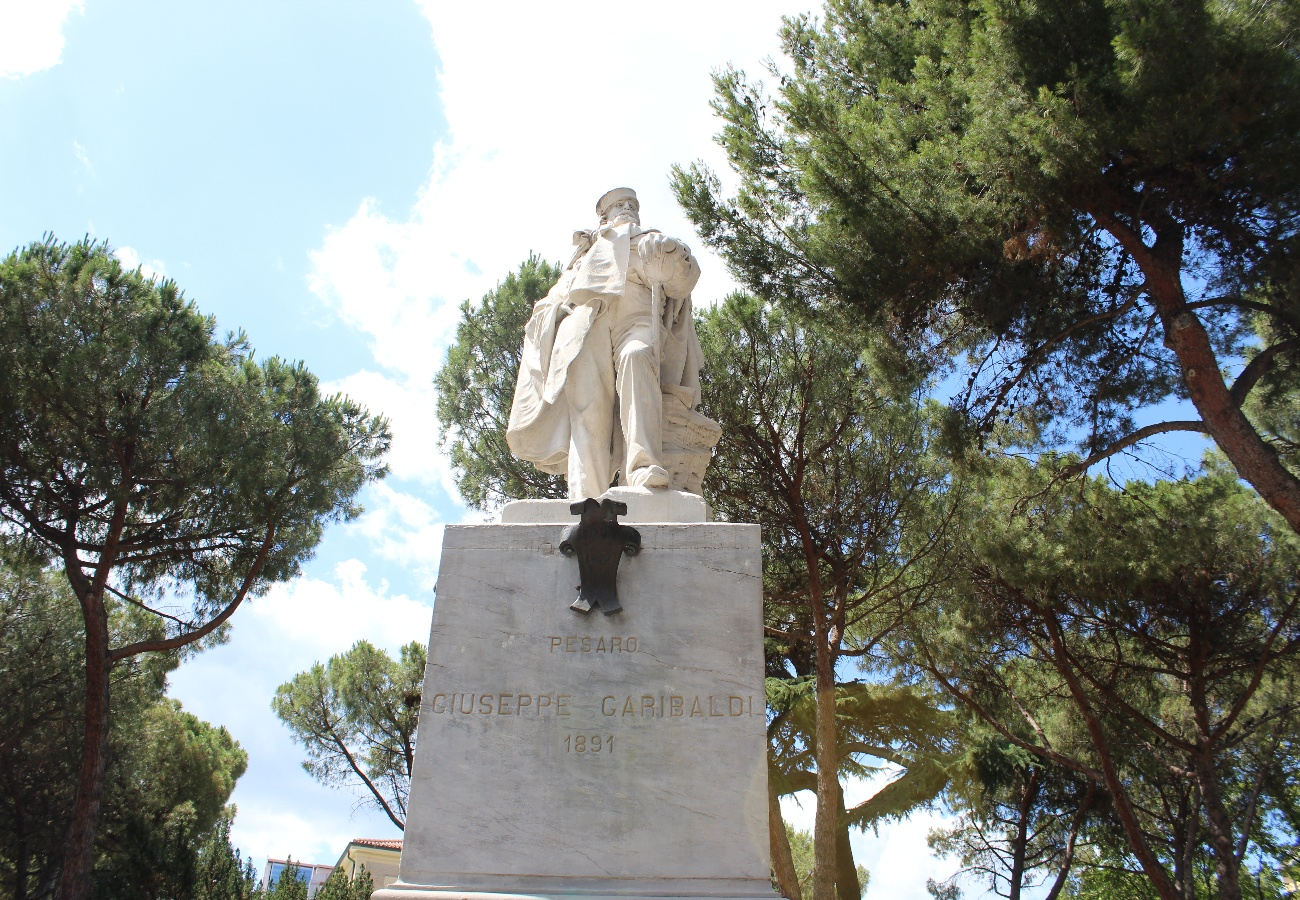Giuseppe Garibaldi: (505, 187, 707, 492)
